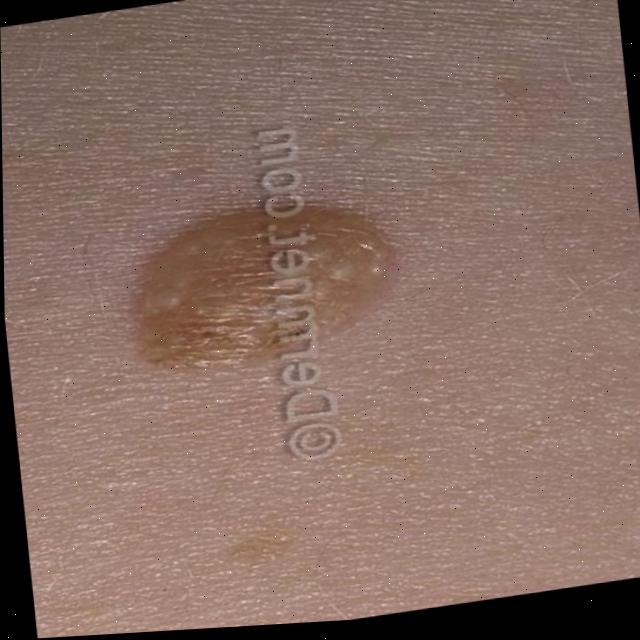Eczema: (161, 200, 370, 387)
